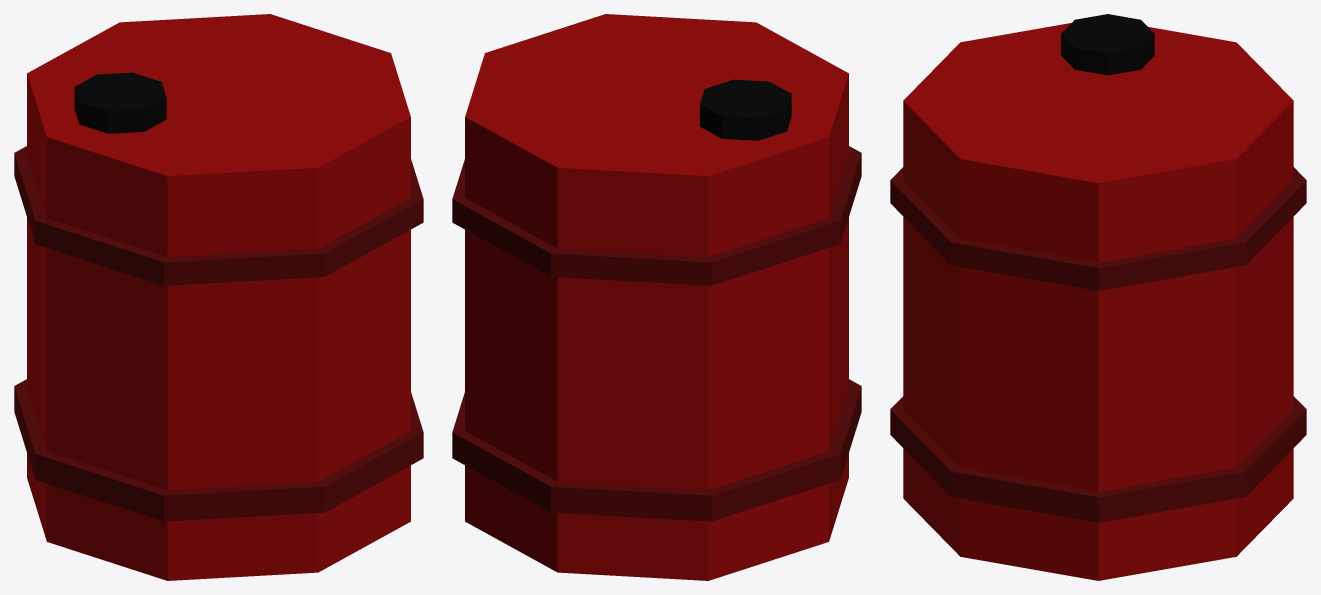
The model's file is Barril.fbx.
3 views of the same model, side by side, from view 1: azimuth 30°, elevation 25°; view 2: azimuth 150°, elevation 25°; view 3: azimuth 270°, elevation 25° (orthographic).
Parts seen in each view (by area): view 1: Level05_Barrel21; view 2: Level05_Barrel21; view 3: Level05_Barrel21.
Boxes of the visible parts, x1=… form: Level05_Barrel21: x1=14, y1=14, x2=423, y2=580; Level05_Barrel21: x1=452, y1=14, x2=861, y2=580; Level05_Barrel21: x1=890, y1=14, x2=1306, y2=580.
Bounding box in the file's own units: 69.47 × 77.28 × 69.47.
